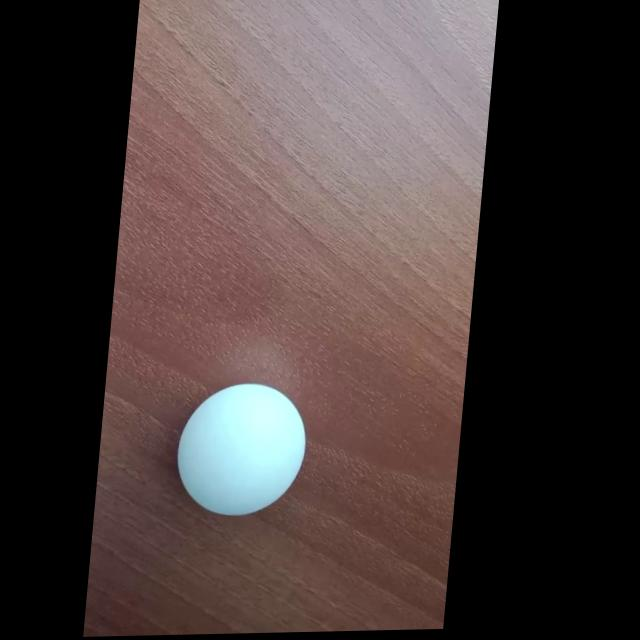white ball: (172, 381, 311, 518)
